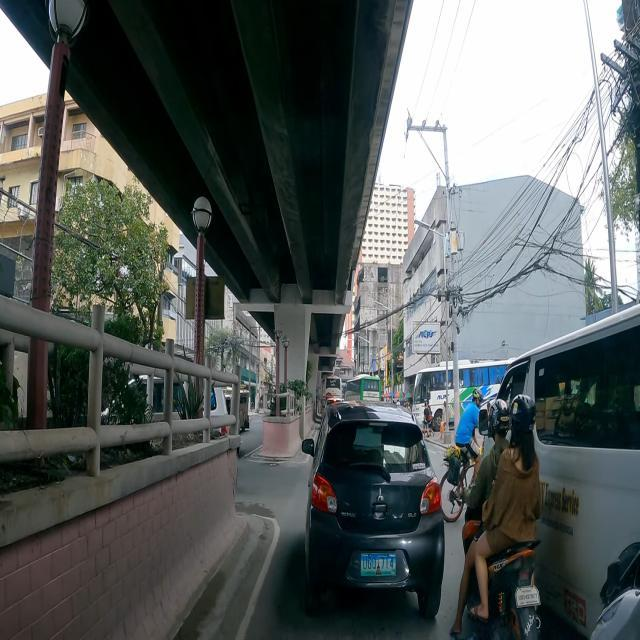bike: (440, 388, 482, 522)
bus: (412, 360, 514, 432), (344, 374, 382, 402), (324, 377, 341, 398)
car: (497, 304, 640, 638), (302, 402, 444, 619)
jeepney: (238, 384, 250, 430)
motorcycle: (450, 394, 540, 640)
